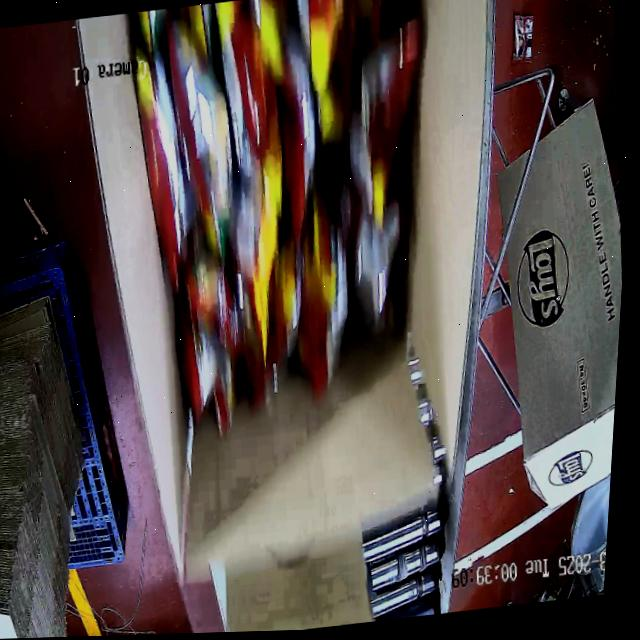MASALA: (106, 0, 458, 448)
